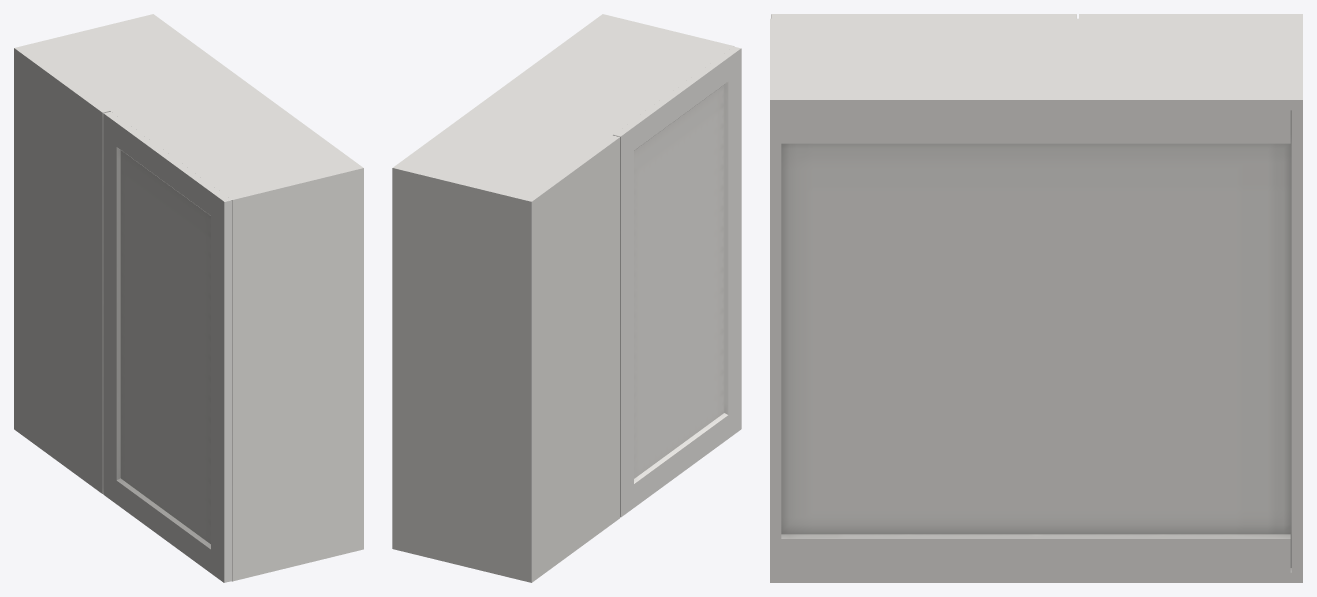
File: wall-blind-corner-doors-on.glb
3 views of the same model, side by side, from view 1: azimuth 30°, elevation 25°; view 2: azimuth 150°, elevation 25°; view 3: azimuth 270°, elevation 25° (orthographic). The views are drawn at different scales.
Visible parts, largest first — view 1: part_0, part_16; view 2: part_0, part_16; view 3: part_0, part_16.
Part boxes in pixels (x1,y1,x2,y2): part_0: [14, 14, 363, 581]; part_16: [103, 111, 231, 582]; part_0: [392, 14, 734, 582]; part_16: [613, 46, 741, 517]; part_0: [770, 14, 1302, 582]; part_16: [771, 14, 1076, 18].
Size of the model in its own units: 0.3495 by 0.9144 by 0.9144.
Materials: 2 (2 with a texture image).
